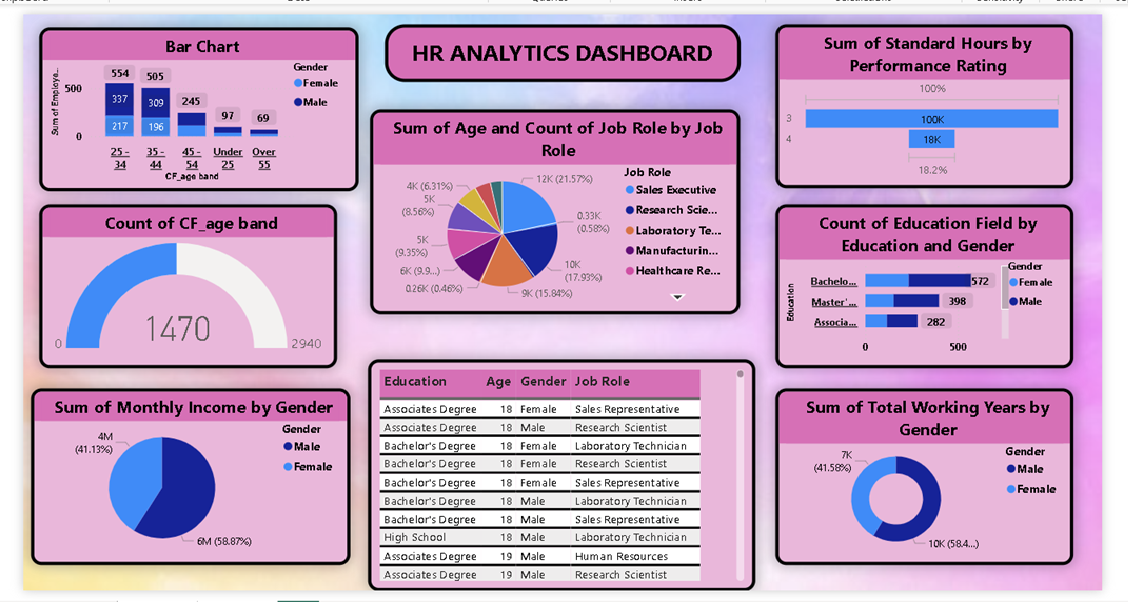

Layout of this report page (visuals, bound fields, positions):
{"tool":"powerbi","page":{"name":"Page 1","canvas":[1280,720],"ordinal":0},"visuals":[{"type":"columnChart","title":"Bar Chart ","fields":{"Category":["Sheet1.CF_age band"],"Y":["Sum(Sheet1.Employee Count)"],"Series":["Sheet1.Gender"]},"box":[8.4,0,378.8,205.1],"z":0},{"type":"pieChart","fields":{"Y":["Sum(Sheet1.Monthly Income)"],"Category":["Sheet1.Gender"]},"box":[8.4,468.1,378.8,220.8],"z":1000},{"type":"gauge","fields":{"Y":["CountNonNull(Sheet1.CF_age band)"]},"box":[9.7,246.1,353.5,205.1],"z":2000},{"type":"pieChart","fields":{"Category":["Sheet1.Job Role"],"Y":["Sum(Sheet1.Age)","CountNonNull(Sheet1.Job Role)"]},"box":[411.4,118.2,439.1,255.8],"z":3000},{"type":"barChart","fields":{"Category":["Sheet1.Education"],"Y":["CountNonNull(Sheet1.Education Field)"],"Series":["Sheet1.Gender"]},"box":[880.7,236.5,353.5,205.1],"z":4000},{"type":"donutChart","fields":{"Y":["Sum(Sheet1.Total Working Years)"],"Category":["Sheet1.Gender"]},"box":[892.8,468.1,326.9,220.8],"z":5000},{"type":"tableEx","fields":{"Values":["Sheet1.Education","Sheet1.Age","Sheet1.Gender","Sheet1.Job Role"]},"box":[409,430.7,459.7,289.5],"z":6000},{"type":"textbox","box":[428.3,12.1,422.3,72.4],"z":7000},{"type":"funnel","fields":{"Category":["Sheet1.Performance Rating"],"Y":["Sum(Sheet1.Standard Hours)"]},"box":[892.8,12.1,353.5,205.1],"z":8000}]}

Visuals, with their boxes in screenshot pixels (x1, y1, x2, y2):
"Bar Chart " columnChart: rect(68, 12, 370, 175)
pieChart - Sum(Sheet1.Monthly Income) x Sheet1.Gender: rect(68, 384, 370, 560)
gauge - CountNonNull(Sheet1.CF_age band): rect(69, 208, 351, 371)
pieChart - Sheet1.Job Role x Sum(Sheet1.Age): rect(389, 106, 738, 309)
barChart - Sheet1.Education x CountNonNull(Sheet1.Education Field): rect(762, 200, 1044, 363)
donutChart - Sum(Sheet1.Total Working Years) x Sheet1.Gender: rect(772, 384, 1032, 560)
tableEx - Sheet1.Education x Sheet1.Age: rect(387, 354, 753, 585)
textbox: rect(402, 21, 738, 79)
funnel - Sheet1.Performance Rating x Sum(Sheet1.Standard Hours): rect(772, 21, 1053, 185)
